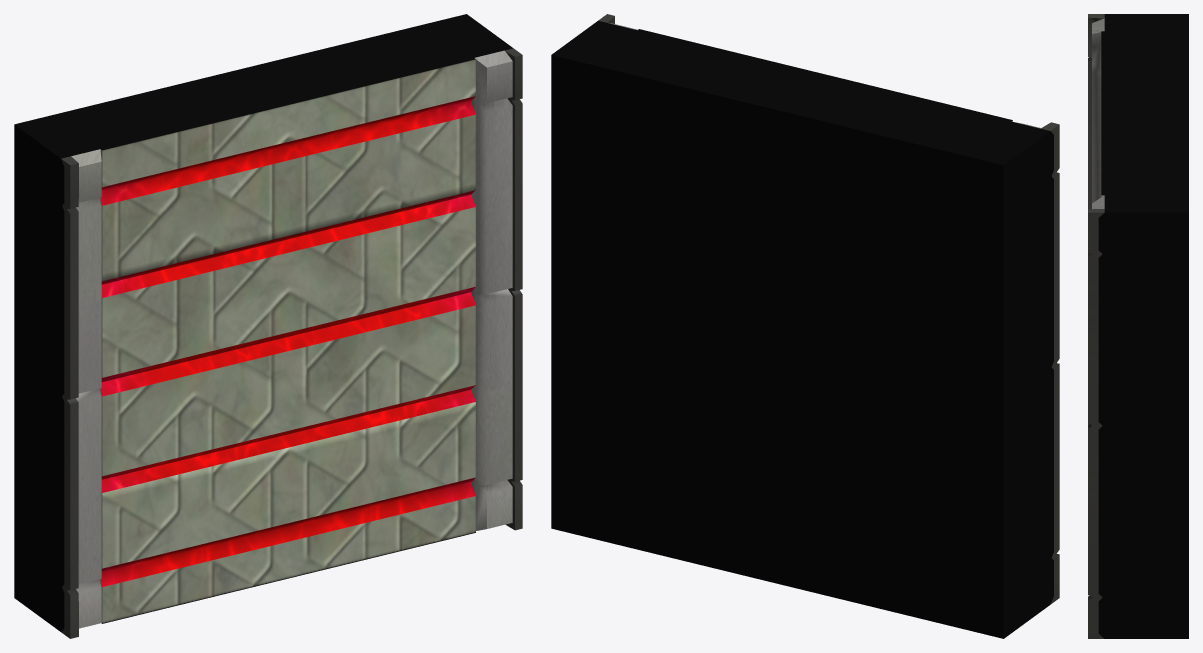
Rendered from BackWall.fbx.
3 views of the same model, side by side, from view 1: azimuth 30°, elevation 25°; view 2: azimuth 150°, elevation 25°; view 3: azimuth 270°, elevation 25° (orthographic). The views are drawn at different scales.
Visible parts, largest first — view 1: BackWall1; view 2: BackWall1; view 3: BackWall1.
Part boxes in pixels (x1,y1,x2,y2): BackWall1: [14, 14, 522, 638]; BackWall1: [551, 14, 1059, 638]; BackWall1: [1088, 14, 1188, 638].
Bounding box in the file's own units: 6 × 6 × 1.29.
Materials: 1 (1 with a texture image).
